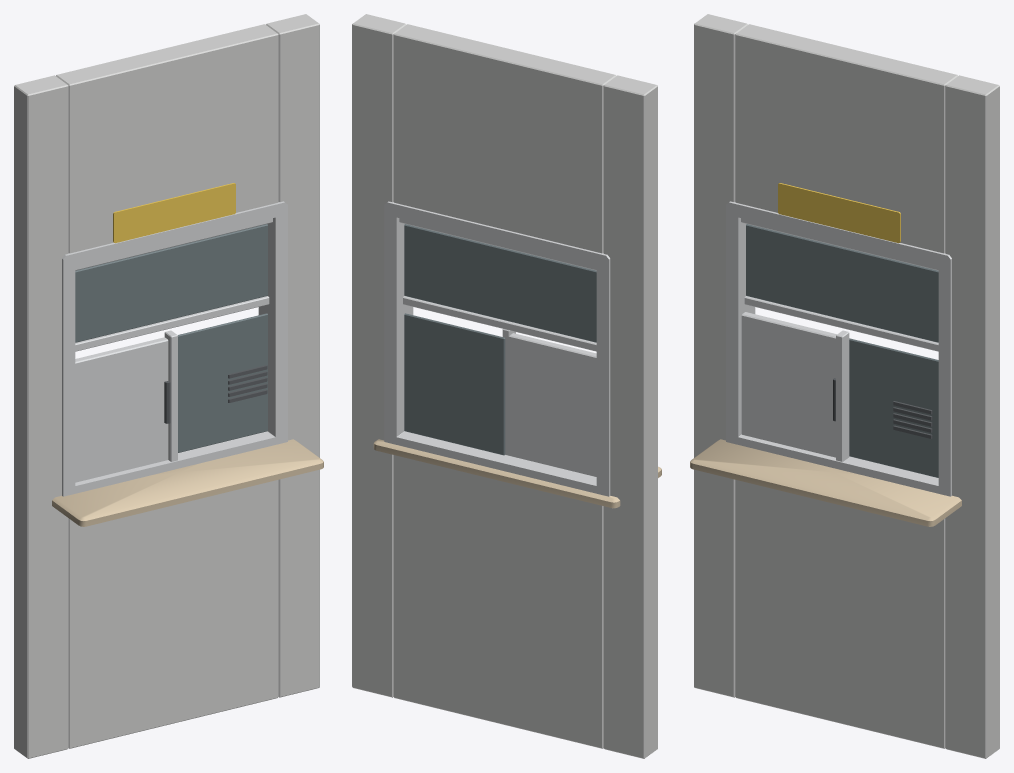
File: laundrette-and-cleaning-service-window-module-d428b15e__25551.glb
The picture shows the model from 3 angles, left to right: view 1: azimuth 30°, elevation 25°; view 2: azimuth 150°, elevation 25°; view 3: azimuth 330°, elevation 25°; orthographic projection.
Visible parts, largest first — view 1: service-window-module, hatch-slide/metal; view 2: service-window-module, hatch-slide/metal; view 3: service-window-module, hatch-slide/metal.
Part boxes in pixels (x1,y1,x2,y2): service-window-module: [14, 14, 323, 758]; hatch-slide/metal: [75, 337, 168, 482]; service-window-module: [352, 14, 661, 758]; hatch-slide/metal: [508, 333, 596, 476]; service-window-module: [690, 14, 999, 758]; hatch-slide/metal: [741, 312, 836, 457].
Size of the model in its own units: 1.2 by 2.6 by 0.34.
